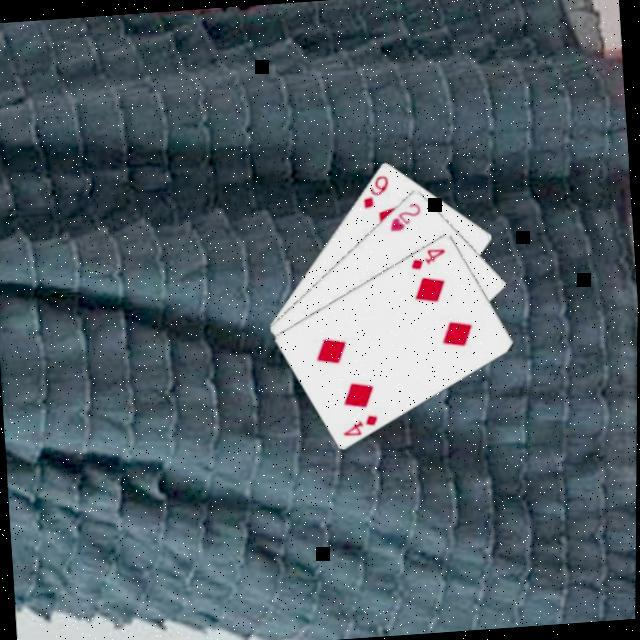2H: (384, 199, 424, 236)
4D: (405, 244, 449, 274), (338, 412, 382, 439)
9D: (357, 172, 392, 212)
